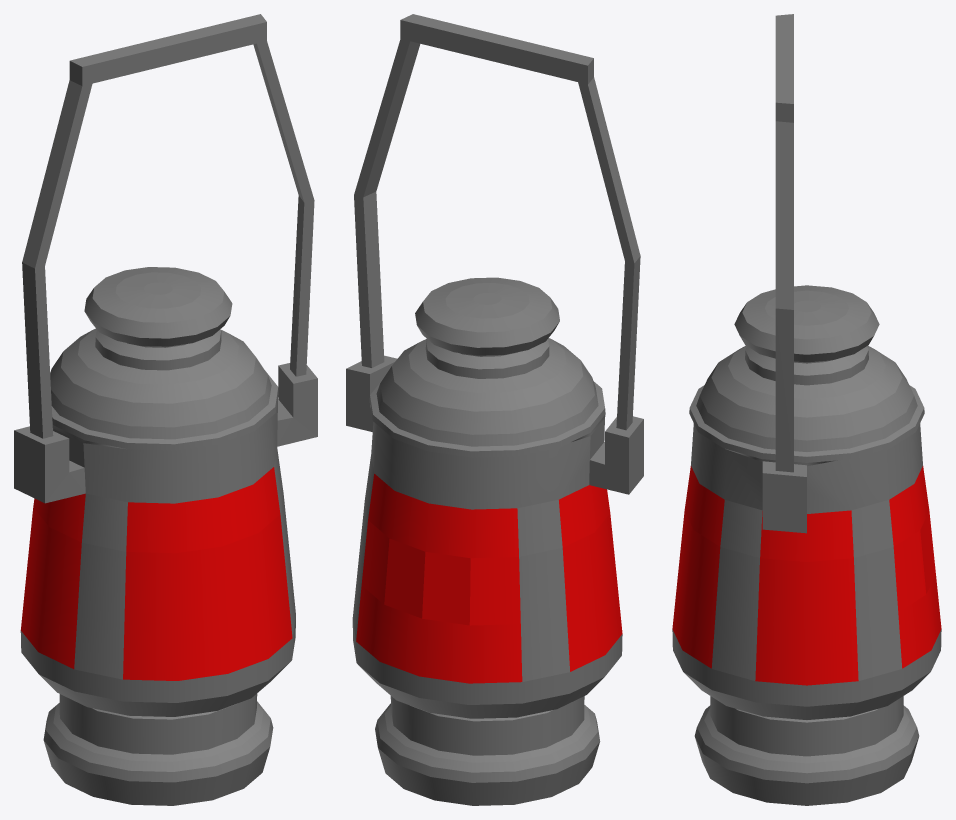
The model's file is FBX_Lamp.fbx.
3 renders of one model, left to right at view 1: azimuth 30°, elevation 25°; view 2: azimuth 150°, elevation 25°; view 3: azimuth 270°, elevation 25°, orthographic. The views are drawn at different scales.
Visible parts, largest first — view 1: Lamp; view 2: Lamp; view 3: Lamp.
Boxes of the visible parts, x1=… form: Lamp: x1=14, y1=14, x2=317, y2=805; Lamp: x1=346, y1=14, x2=643, y2=805; Lamp: x1=672, y1=14, x2=941, y2=805.
Size of the model in its own units: 12.73 by 30.7 by 10.65.
